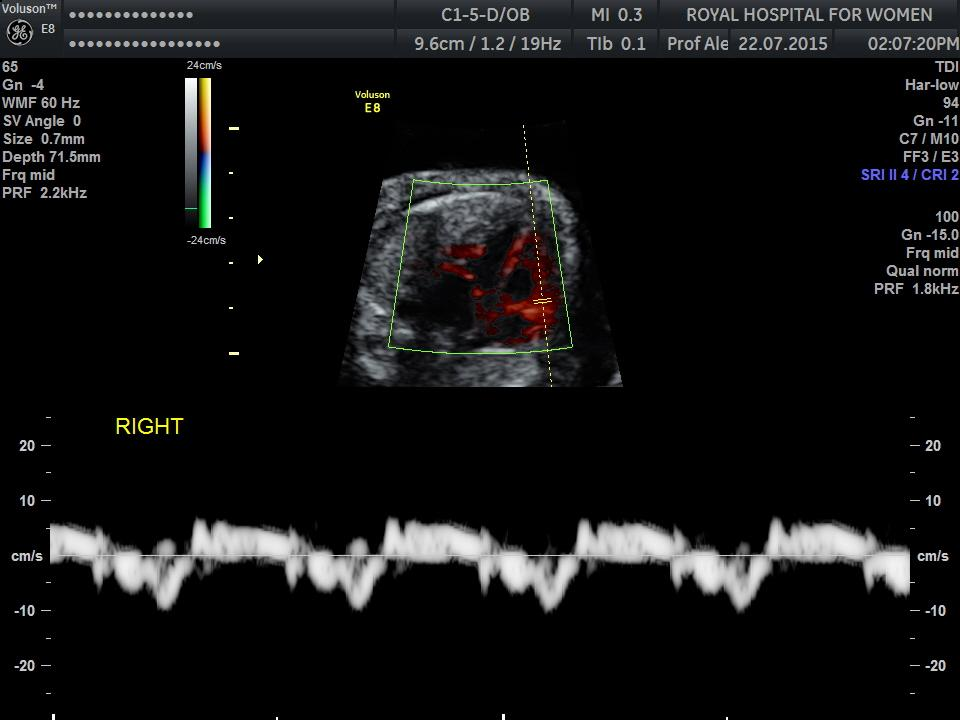Ultrasound-Waves: (53, 404, 907, 719)
